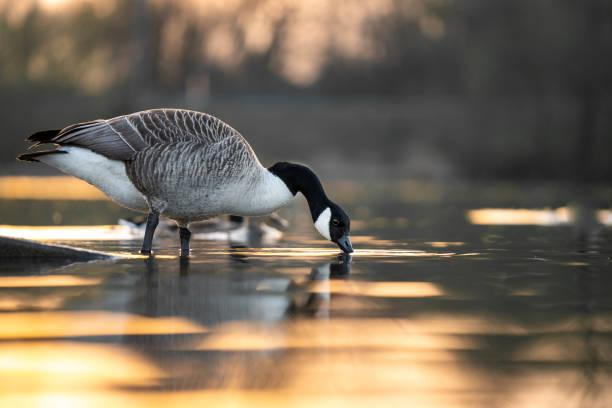Canadian-Goose: (17, 105, 354, 268)
